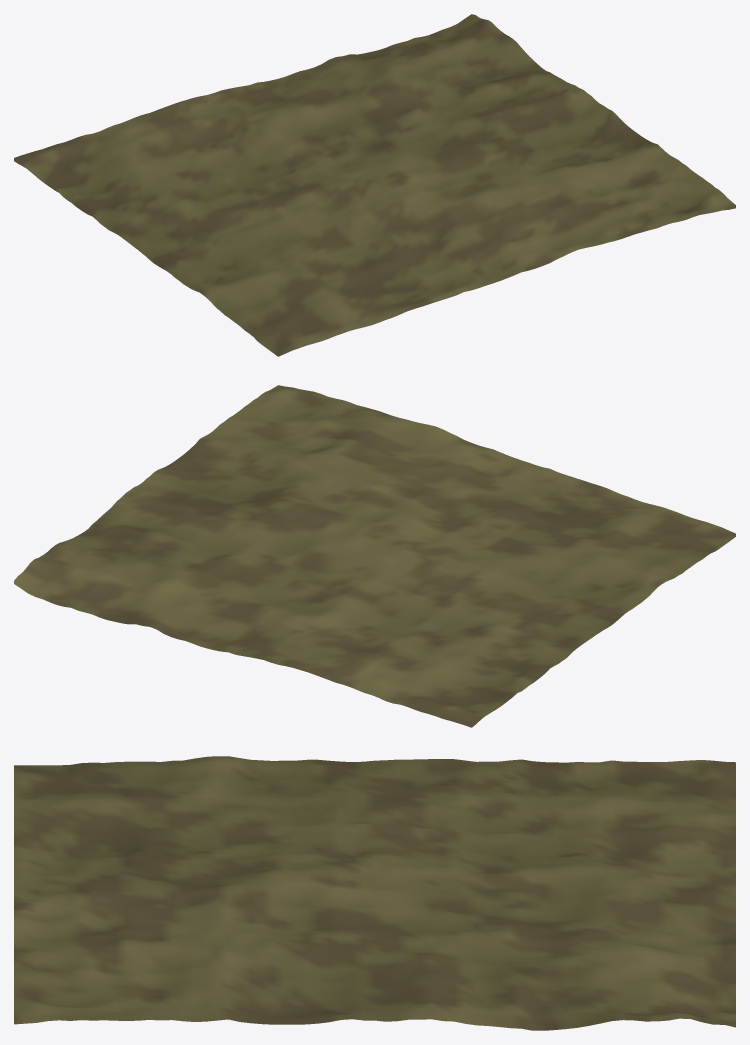
Rendered from land_f_07_05.glb.
The picture shows the model from 3 angles, top to bottom: view 1: azimuth 30°, elevation 25°; view 2: azimuth 150°, elevation 25°; view 3: azimuth 270°, elevation 25°; orthographic projection. The views are drawn at different scales.
Visible parts, largest first — view 1: land_f_07_05; view 2: land_f_07_05; view 3: land_f_07_05.
Boxes of the visible parts, bbox=[...] form: land_f_07_05: bbox=[14, 14, 735, 356]; land_f_07_05: bbox=[14, 385, 735, 727]; land_f_07_05: bbox=[14, 756, 735, 1030].
Bounding box in the file's own units: 3840 × 359 × 3840.
